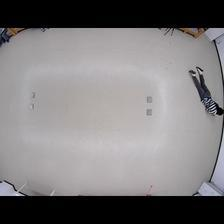fall: (189, 65, 223, 117)
